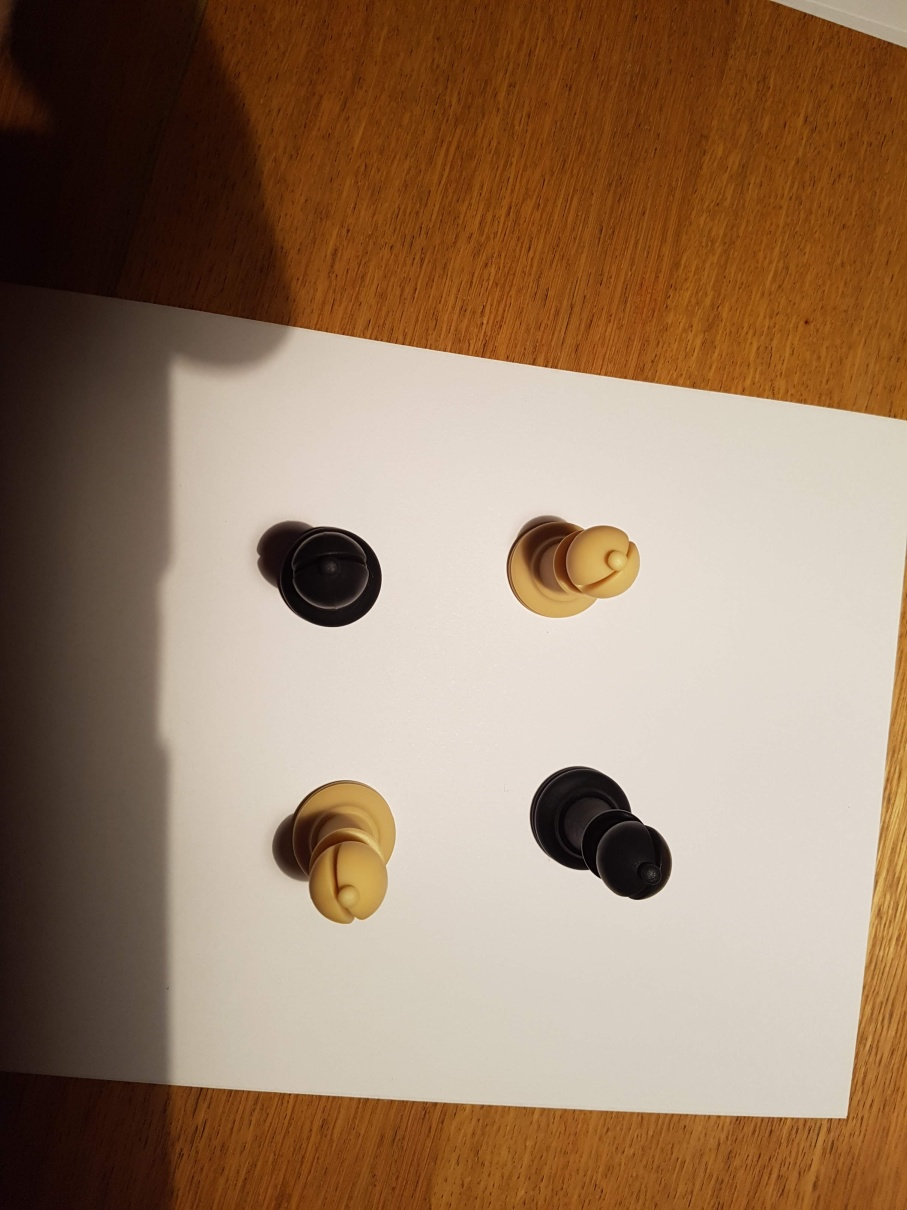chess_bishop: (529, 764, 675, 904), (292, 778, 401, 925), (507, 518, 643, 619), (279, 525, 384, 627)
